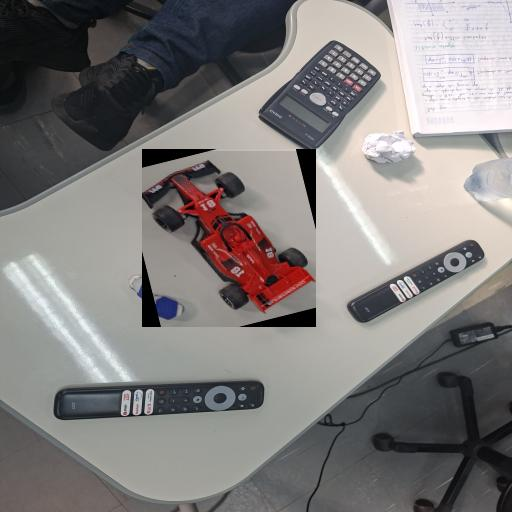carro: (142, 151, 316, 327)
